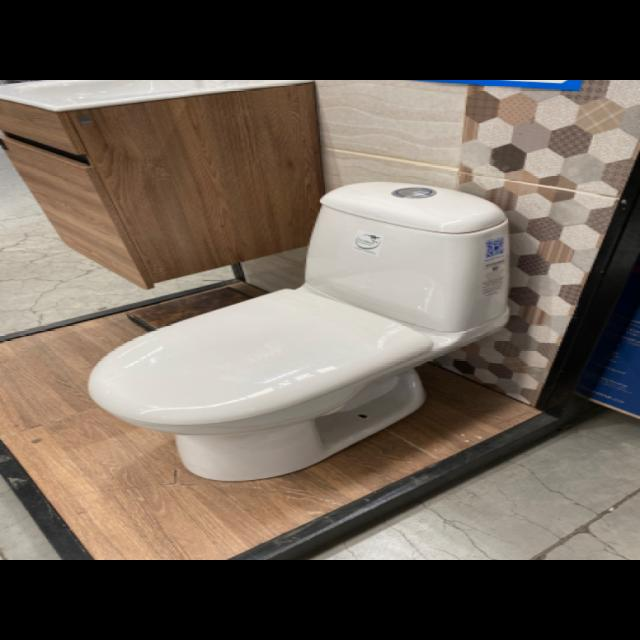toilet: (85, 180, 511, 481)
